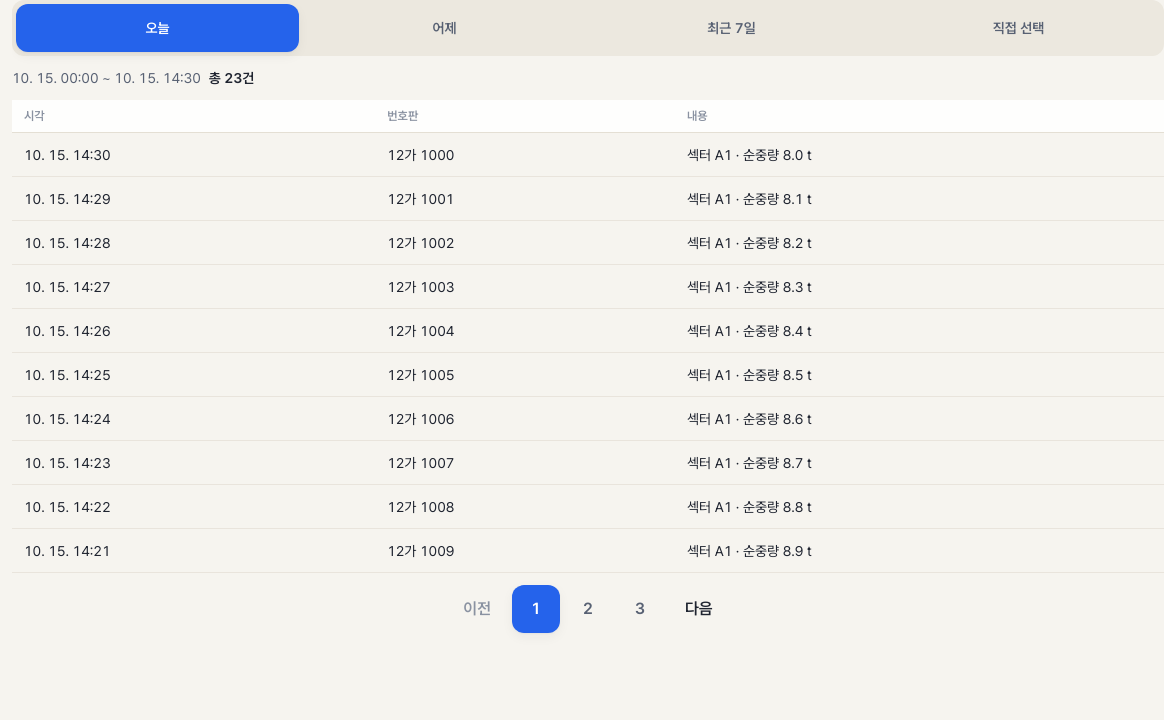
it: RecordList › 쪽 넘기기: 이전 · 쪽 번호 · 다음, 지금 쪽 표시
Check: the button "이전" is disabled, box [446, 585, 508, 633]
Check: the number of buttons named "쪽" is 3, box [512, 585, 560, 633]; [564, 585, 612, 633]; [616, 585, 664, 633]
Click the button "다음": (699, 609) [668, 585, 730, 633]
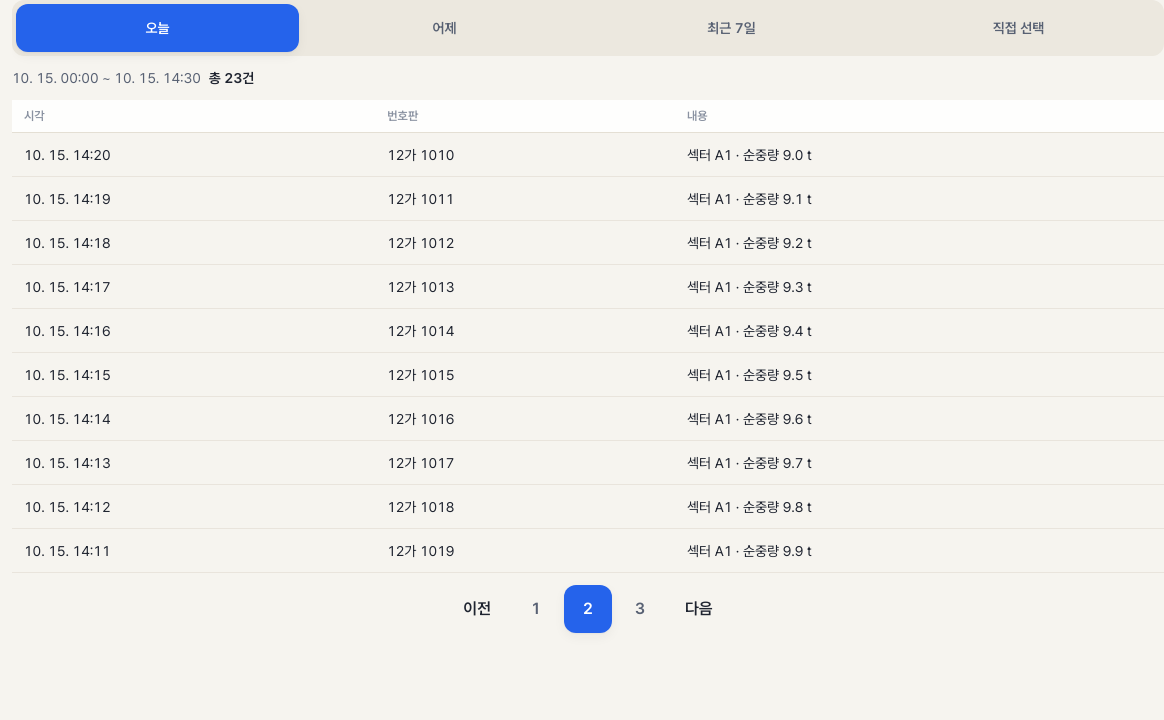
Click the button named "3쪽": (640, 609) [616, 585, 664, 633]
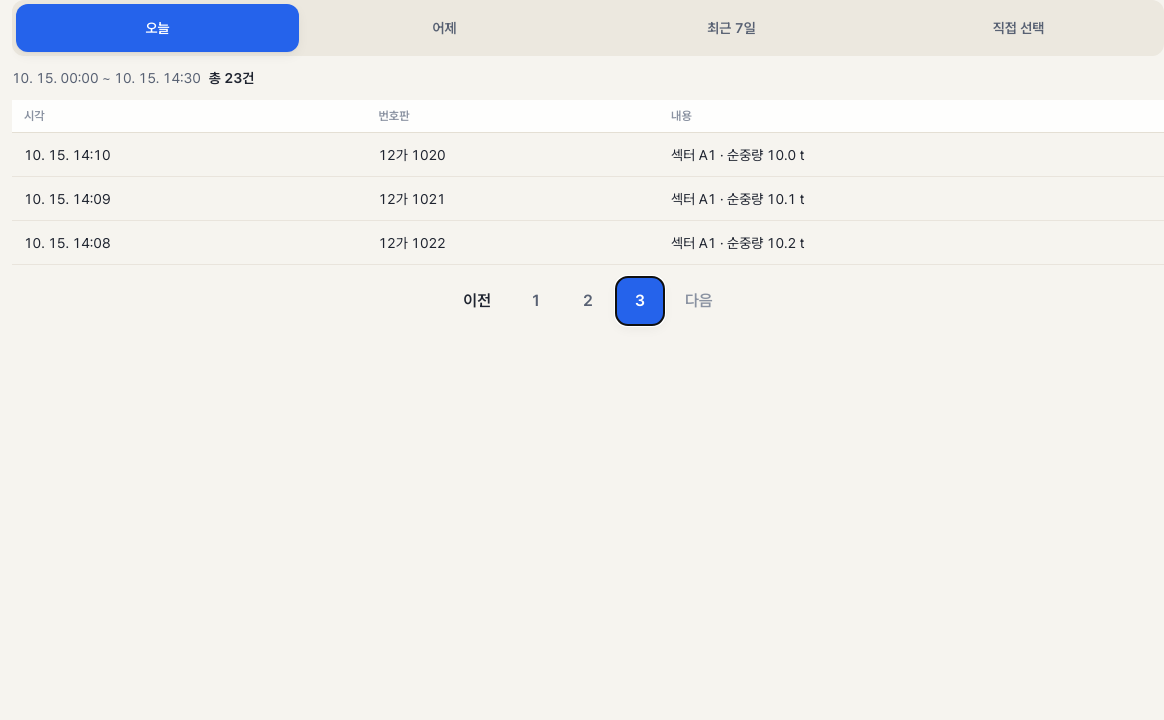
Check: the button "다음" is disabled, box [668, 277, 730, 325]
